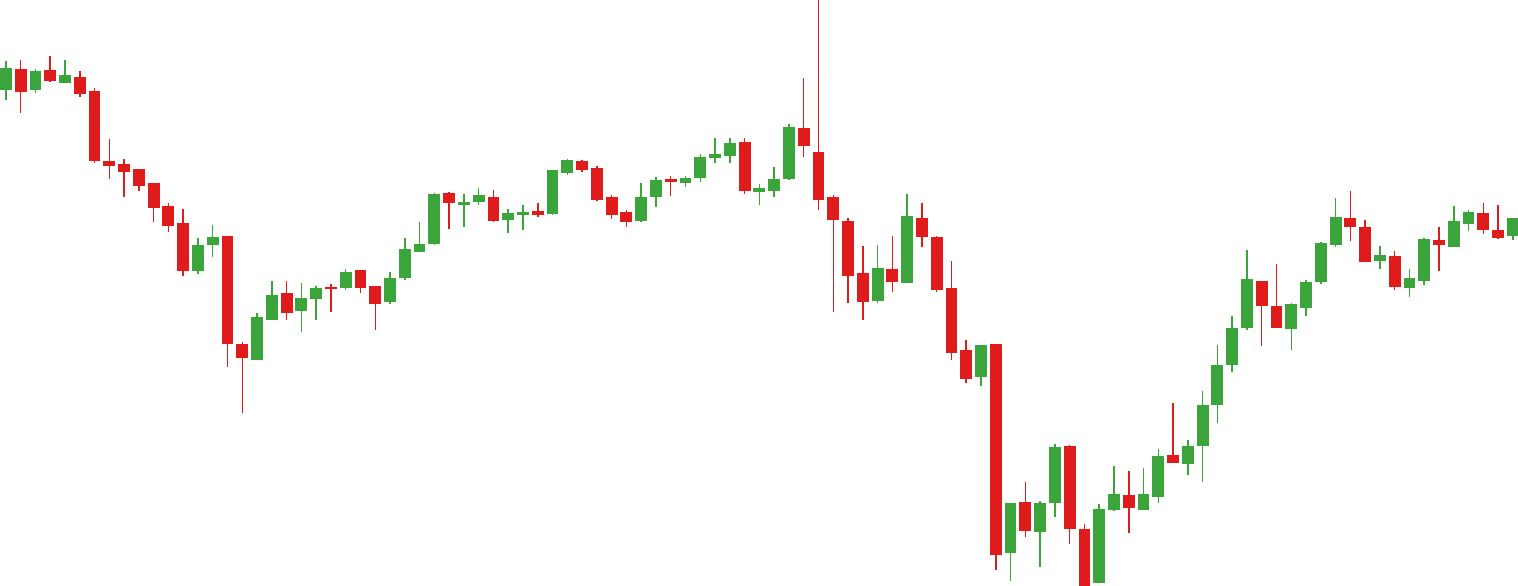buy: (1001, 479, 1107, 585)
sell: (708, 74, 810, 167)
